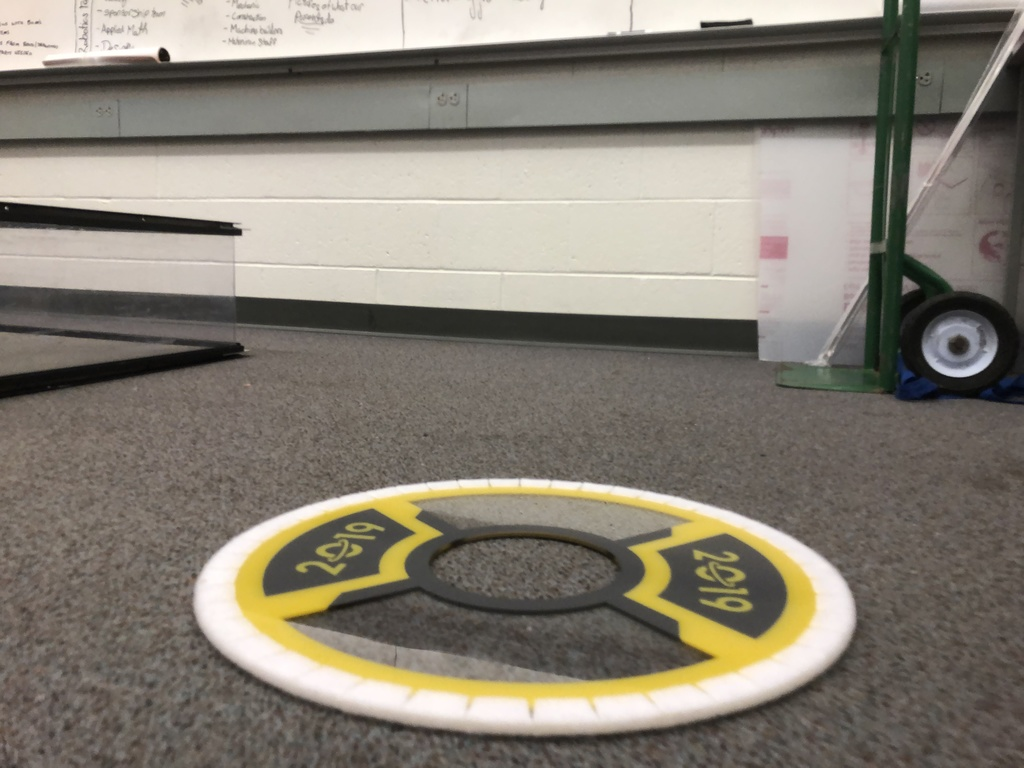hatch_panel: (181, 470, 891, 762)
